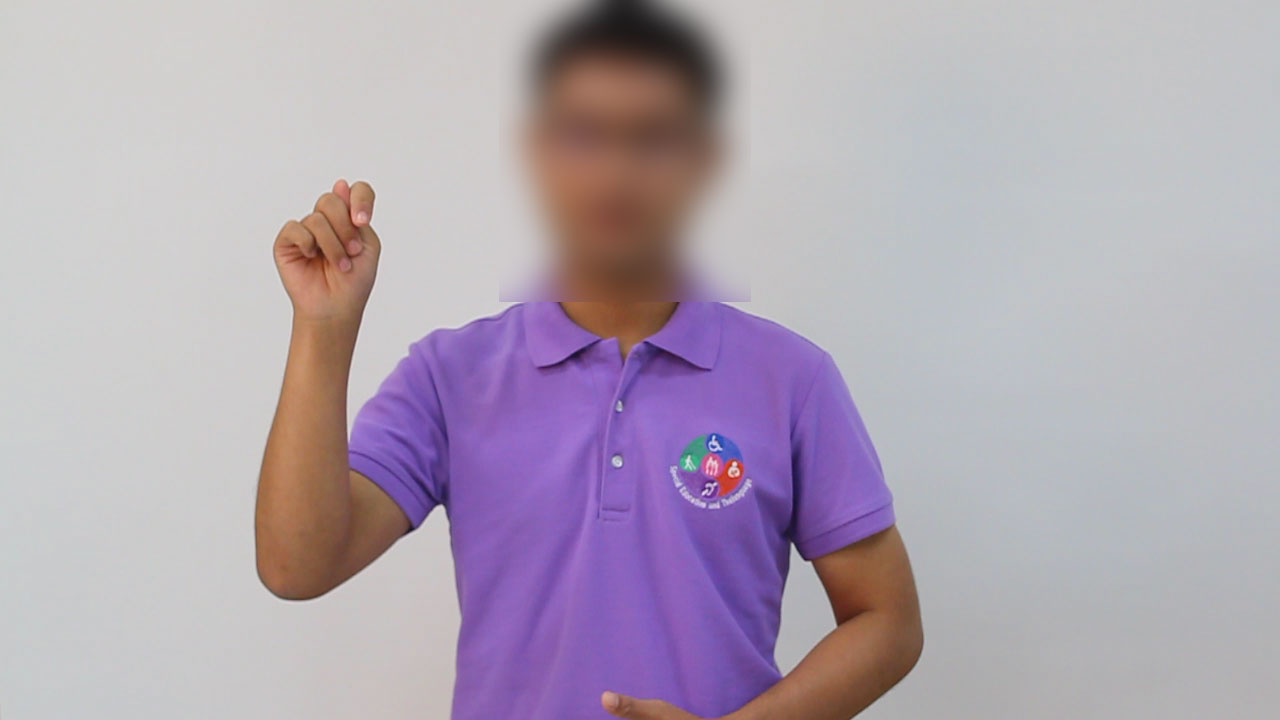tor: (260, 167, 412, 329)
